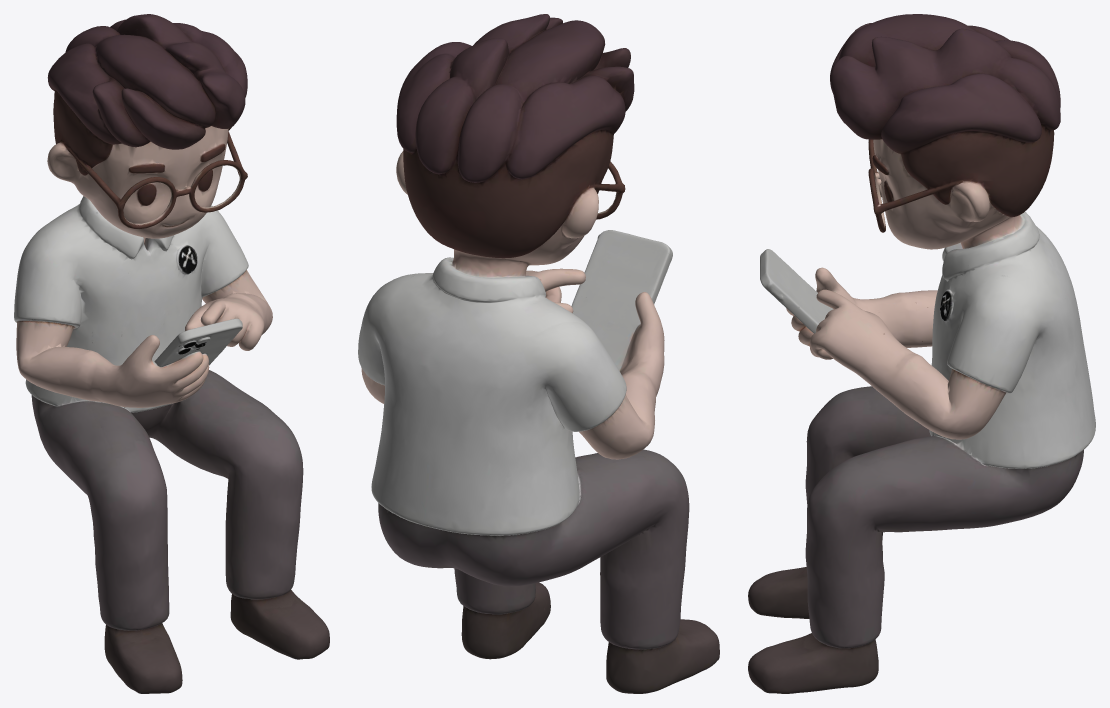
The model's file is glen.glb.
3 views of the same model, side by side, from view 1: azimuth 30°, elevation 25°; view 2: azimuth 150°, elevation 25°; view 3: azimuth 270°, elevation 25° (orthographic). The views are drawn at different scales.
Visible parts, largest first — view 1: tripo_node_0e1362e1-5da7-4a7c-a481-37264fb86452; view 2: tripo_node_0e1362e1-5da7-4a7c-a481-37264fb86452; view 3: tripo_node_0e1362e1-5da7-4a7c-a481-37264fb86452.
Part boxes in pixels (x1=…): tripo_node_0e1362e1-5da7-4a7c-a481-37264fb86452: x1=14, y1=14, x2=329, y2=693; tripo_node_0e1362e1-5da7-4a7c-a481-37264fb86452: x1=358, y1=14, x2=719, y2=693; tripo_node_0e1362e1-5da7-4a7c-a481-37264fb86452: x1=748, y1=14, x2=1095, y2=693.
Size of the model in its own units: 0.4419 by 1 by 0.5101.
Materials: 1 (1 with a texture image).
